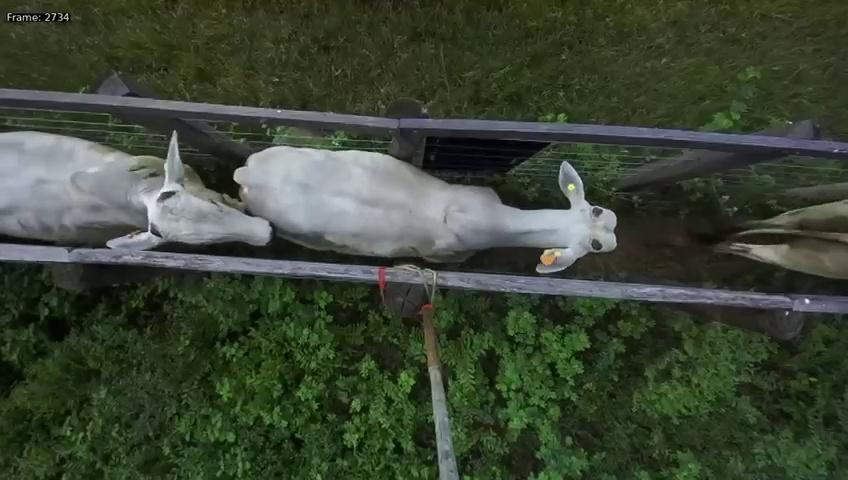cattle: (230, 124, 620, 276), (0, 112, 278, 272)
